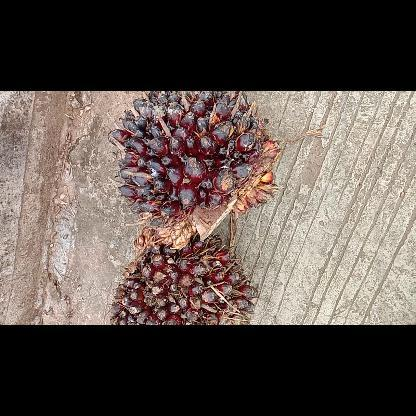TBS mentah: (104, 91, 284, 253), (111, 224, 261, 324)
